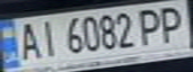0: (78, 12, 100, 53)
2: (112, 9, 139, 50)
6: (60, 13, 84, 55)
8: (96, 11, 121, 52)
A: (12, 19, 42, 61)
I: (33, 17, 60, 59)
P: (154, 2, 190, 45), (133, 4, 166, 46)
